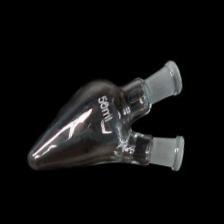Pear shaped flask: (30, 38, 189, 178)
